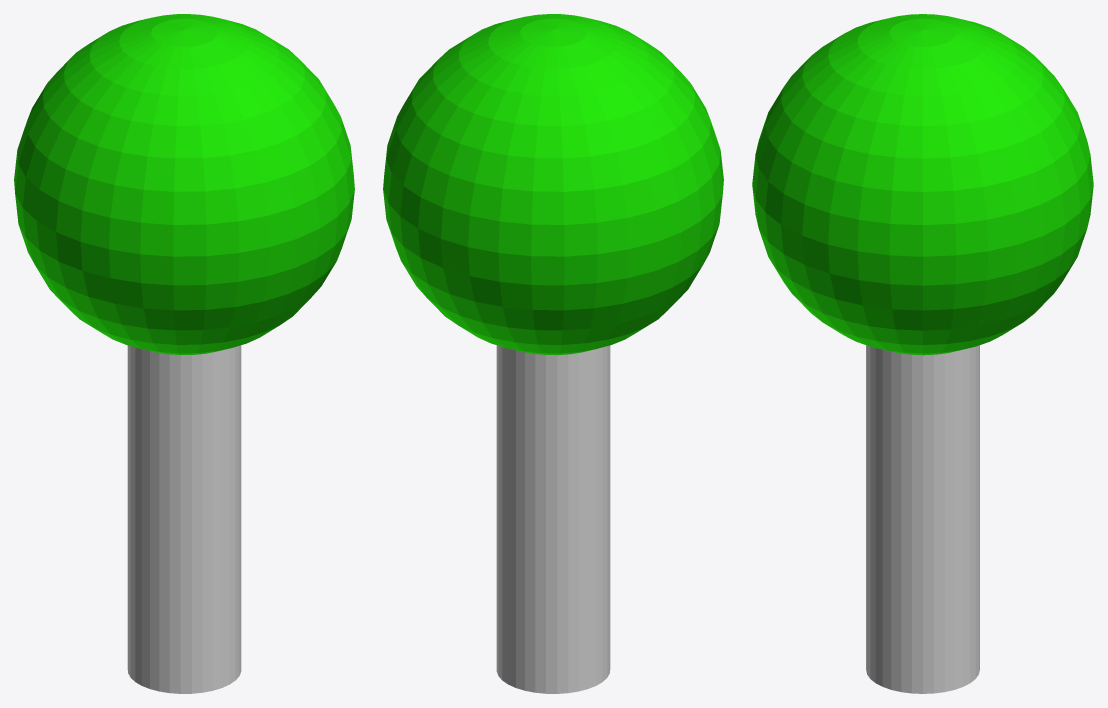
The model's file is wayfinding.fbx.
3 renders of one model, left to right at view 1: azimuth 30°, elevation 25°; view 2: azimuth 150°, elevation 25°; view 3: azimuth 270°, elevation 25°, orthographic.
Parts seen in each view (by area): view 1: Sphere, Cylinder; view 2: Sphere, Cylinder; view 3: Sphere, Cylinder.
Part boxes in pixels (x1,y1,x2,y2): Sphere: (14, 14, 354, 355); Cylinder: (127, 345, 241, 693); Sphere: (383, 14, 723, 355); Cylinder: (496, 345, 610, 693); Sphere: (752, 14, 1093, 355); Cylinder: (866, 345, 979, 693).
Size of the model in its own units: 150 by 310 by 150.
